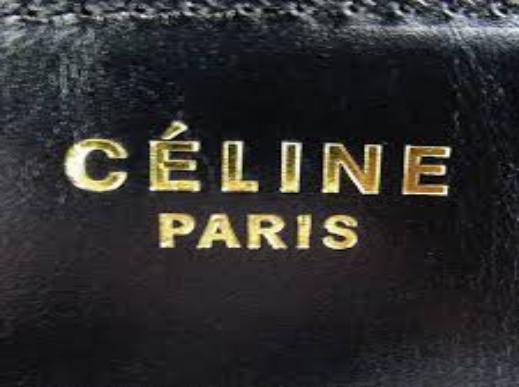CELINE: (53, 111, 452, 202)
